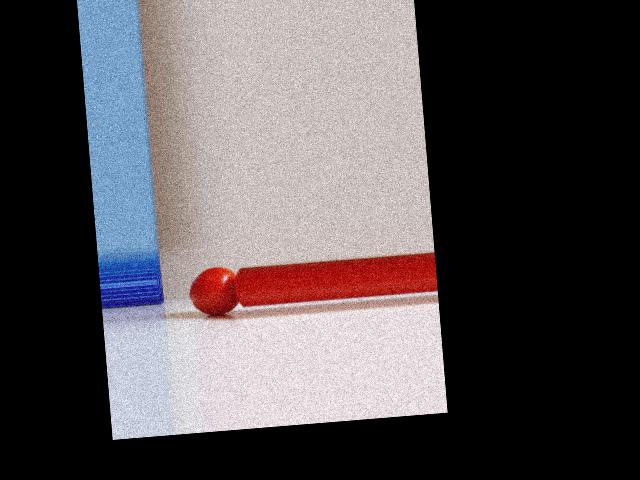tomato: (187, 266, 238, 317)
